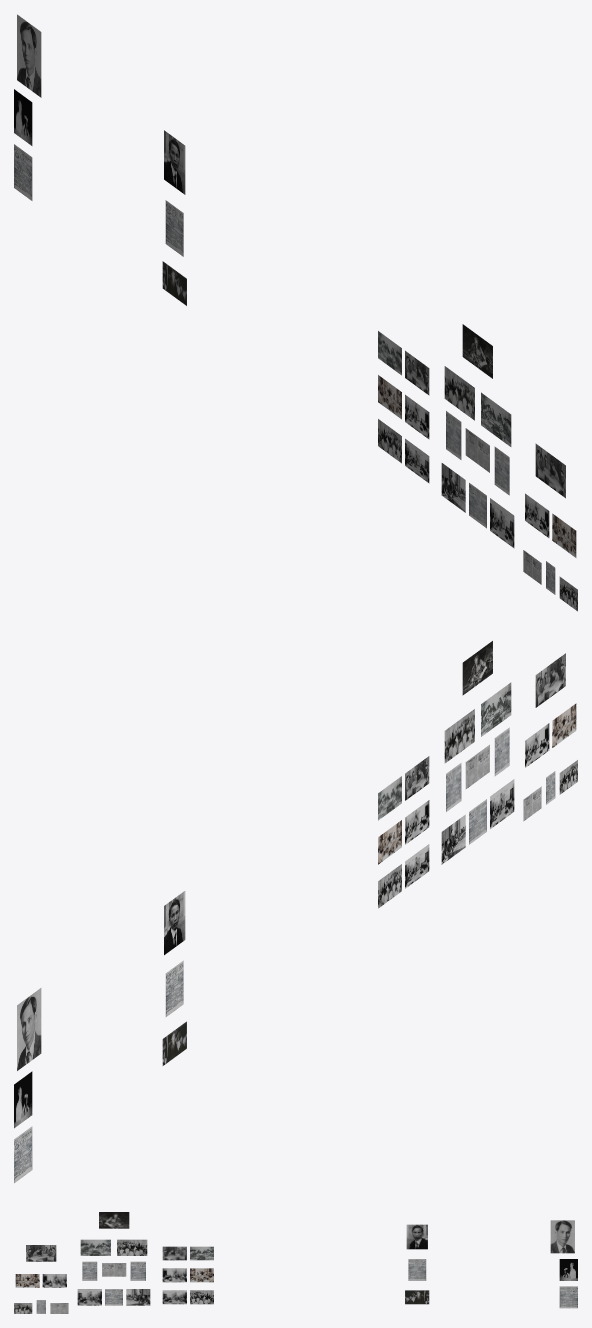
The model's file is PhongThuBa_CD.glb.
3 renders of one model, top to bottom at view 1: azimuth 30°, elevation 25°; view 2: azimuth 150°, elevation 25°; view 3: azimuth 270°, elevation 25°, orthographic. The views are drawn at different scales.
Parts seen in each view (by area): view 1: Plane.017, Plane.003, Plane.040, Plane.008, Plane.013, Plane.012, Plane.014, Plane.019, Plane.018, Plane.011, Plane.007; view 2: Plane.017, Plane.003, Plane.040, Plane.013, Plane.008, Plane.012, Plane.019, Plane.014, Plane.018, Plane.011, Plane.007, Plane.002 (+6 smaller); view 3: Plane.017, Plane.003, Plane.040, Plane.008, Plane.012, Plane.013, Plane.019, Plane.011, Plane.007, Plane.014, Plane.018, Plane.031 (+14 smaller).
Boxes of the visible parts, <box> form: Plane.017: <box>17,14,41,97</box>; Plane.003: <box>164,130,185,194</box>; Plane.040: <box>462,324,492,378</box>; Plane.008: <box>535,443,565,498</box>; Plane.013: <box>444,366,474,420</box>; Plane.012: <box>481,392,511,446</box>; Plane.014: <box>14,89,32,145</box>; Plane.019: <box>14,144,32,200</box>; Plane.018: <box>165,200,183,256</box>; Plane.011: <box>441,463,465,512</box>; Plane.007: <box>490,498,514,548</box>; Plane.017: <box>17,988,41,1070</box>; Plane.003: <box>164,891,185,955</box>; Plane.040: <box>462,641,492,695</box>; Plane.013: <box>444,709,474,763</box>; Plane.008: <box>535,653,565,707</box>; Plane.012: <box>481,682,511,736</box>; Plane.019: <box>14,1126,32,1183</box>; Plane.014: <box>14,1071,32,1128</box>; Plane.018: <box>165,960,183,1016</box>; Plane.011: <box>441,814,465,864</box>; Plane.007: <box>490,779,514,829</box>; Plane.002: <box>465,744,489,789</box>; Plane.017: <box>550,1220,574,1253</box>; Plane.003: <box>406,1224,427,1249</box>; Plane.040: <box>99,1212,129,1228</box>; Plane.008: <box>26,1245,56,1261</box>; Plane.012: <box>80,1239,110,1255</box>; Plane.013: <box>117,1239,147,1255</box>; Plane.019: <box>559,1286,577,1308</box>; Plane.011: <box>126,1289,150,1305</box>; Plane.007: <box>77,1289,101,1305</box>; Plane.014: <box>559,1259,577,1280</box>; Plane.018: <box>408,1259,426,1280</box>; Plane.031: <box>162,1290,186,1304</box>.
Bounding box in the file's own units: 0 × 1.85 × 9.3.
27 materials, 27 textured.
